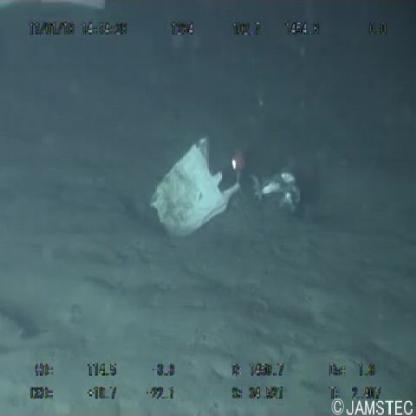Rác: (146, 136, 244, 240)
